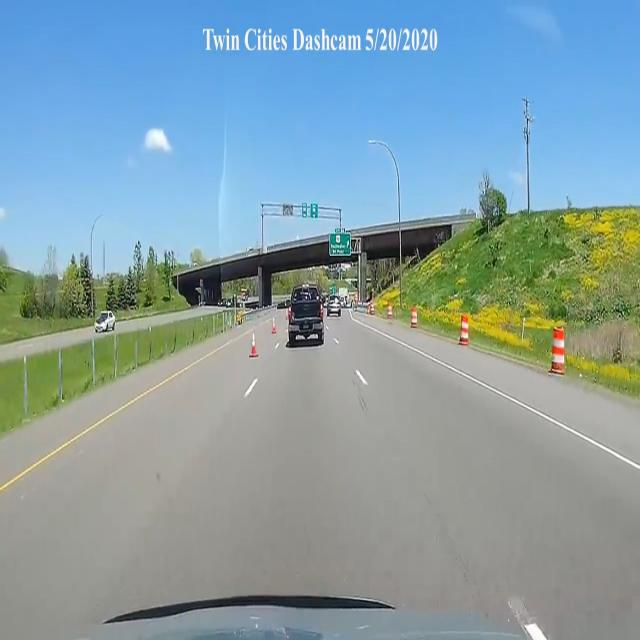cone: (249, 334, 263, 361), (270, 317, 279, 333)
